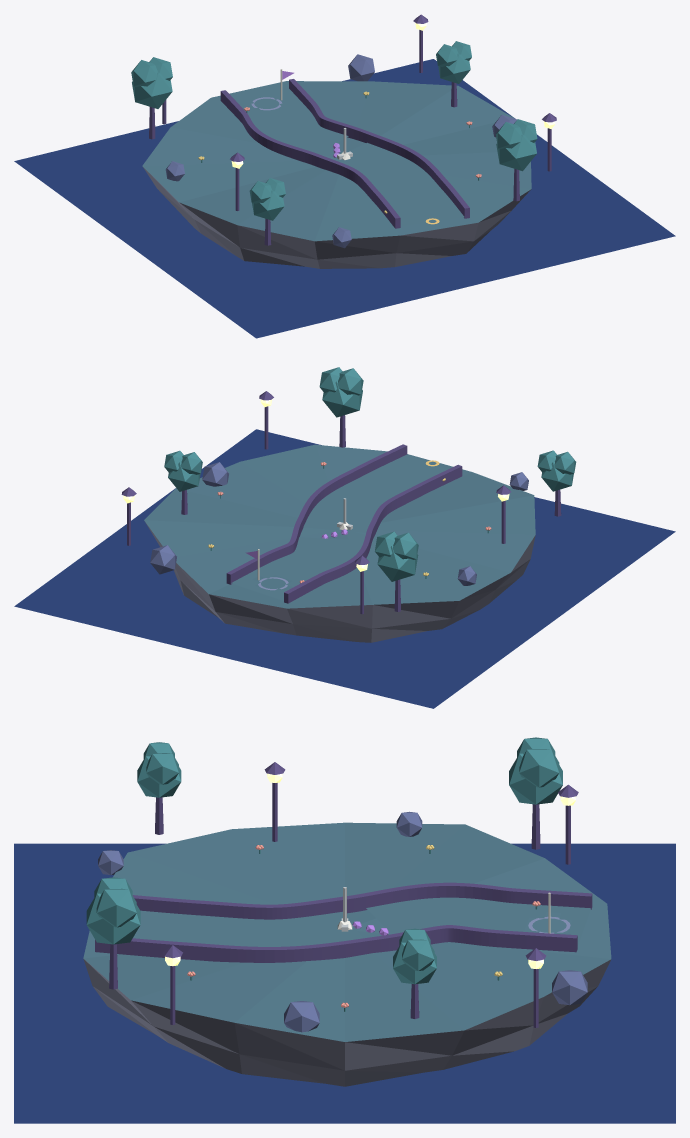
The model's file is course-17.glb.
3 renders of one model, top to bottom at view 1: azimuth 30°, elevation 25°; view 2: azimuth 150°, elevation 25°; view 3: azimuth 270°, elevation 25°, orthographic. The views are drawn at different scales.
Parts seen in each view (by area): view 1: water-plane.016, island-turf-edge.016, island-rock-plinth.016, surface-grass, rail-left, rail-right, faceted-canopy.129, faceted-canopy.123, faceted-canopy.120, faceted-rock.115, faceted-canopy.126, faceted-canopy.124 (+1 smaller); view 2: water-plane.016, island-turf-edge.016, island-rock-plinth.016, surface-grass, rail-left, rail-right, faceted-canopy.123, faceted-canopy.129, faceted-rock.115, faceted-canopy.130, faceted-canopy.124, faceted-canopy.120 (+2 smaller); view 3: water-plane.016, island-turf-edge.016, island-rock-plinth.016, surface-grass, rail-right, rail-left, faceted-canopy.129, faceted-canopy.123, faceted-canopy.125, faceted-canopy.131, faceted-rock.115, faceted-rock.113 (+4 smaller).
Part boxes in pixels (x1=…): water-plane.016: x1=14, y1=59, x2=675, y2=338; island-turf-edge.016: x1=142, y1=81, x2=531, y2=241; island-rock-plinth.016: x1=143, y1=167, x2=531, y2=268; surface-grass: x1=233, y1=88, x2=464, y2=226; rail-left: x1=220, y1=90, x2=400, y2=228; rail-right: x1=289, y1=79, x2=469, y2=218; faceted-canopy.129: x1=496, y1=134, x2=536, y2=171; faceted-canopy.123: x1=132, y1=72, x2=172, y2=108; faceted-canopy.120: x1=252, y1=190, x2=284, y2=220; faceted-rock.115: x1=348, y1=54, x2=374, y2=81; faceted-canopy.126: x1=438, y1=53, x2=470, y2=83; faceted-canopy.124: x1=131, y1=60, x2=157, y2=87; water-plane.016: x1=14, y1=429, x2=675, y2=708; island-turf-edge.016: x1=144, y1=444, x2=535, y2=608; island-rock-plinth.016: x1=145, y1=522, x2=535, y2=642; surface-grass: x1=231, y1=454, x2=447, y2=600; rail-left: x1=284, y1=464, x2=462, y2=603; rail-right: x1=226, y1=444, x2=407, y2=584; faceted-canopy.123: x1=377, y1=545, x2=418, y2=581; faceted-canopy.129: x1=322, y1=381, x2=362, y2=417; faceted-rock.115: x1=150, y1=545, x2=176, y2=574; faceted-canopy.130: x1=337, y1=368, x2=363, y2=395; faceted-canopy.124: x1=393, y1=532, x2=418, y2=559; faceted-canopy.120: x1=541, y1=461, x2=573, y2=491; water-plane.016: x1=14, y1=843, x2=675, y2=1123; island-turf-edge.016: x1=83, y1=822, x2=611, y2=1041; island-rock-plinth.016: x1=83, y1=959, x2=610, y2=1086; surface-grass: x1=133, y1=897, x2=590, y2=946; rail-right: x1=95, y1=925, x2=577, y2=962; rail-left: x1=132, y1=882, x2=592, y2=919; faceted-canopy.129: x1=86, y1=893, x2=140, y2=944; faceted-canopy.123: x1=509, y1=753, x2=562, y2=804; faceted-canopy.125: x1=519, y1=749, x2=559, y2=787; faceted-canopy.131: x1=96, y1=888, x2=136, y2=927; faceted-rock.115: x1=552, y1=970, x2=587, y2=1005; faceted-rock.113: x1=284, y1=1001, x2=319, y2=1032.
Bounding box in the file's own units: 12.3 × 3.35 × 12.3.
